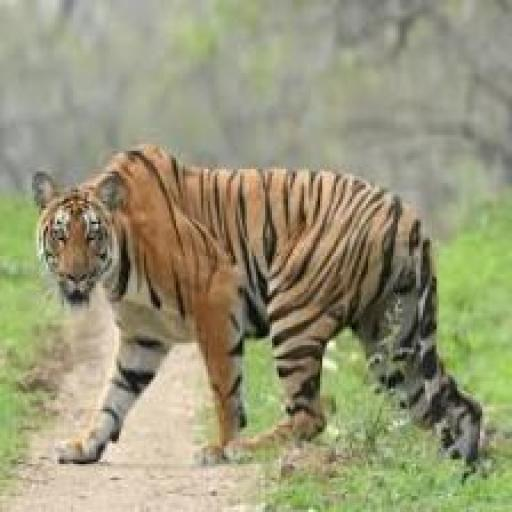Tiger: (18, 128, 496, 494)
